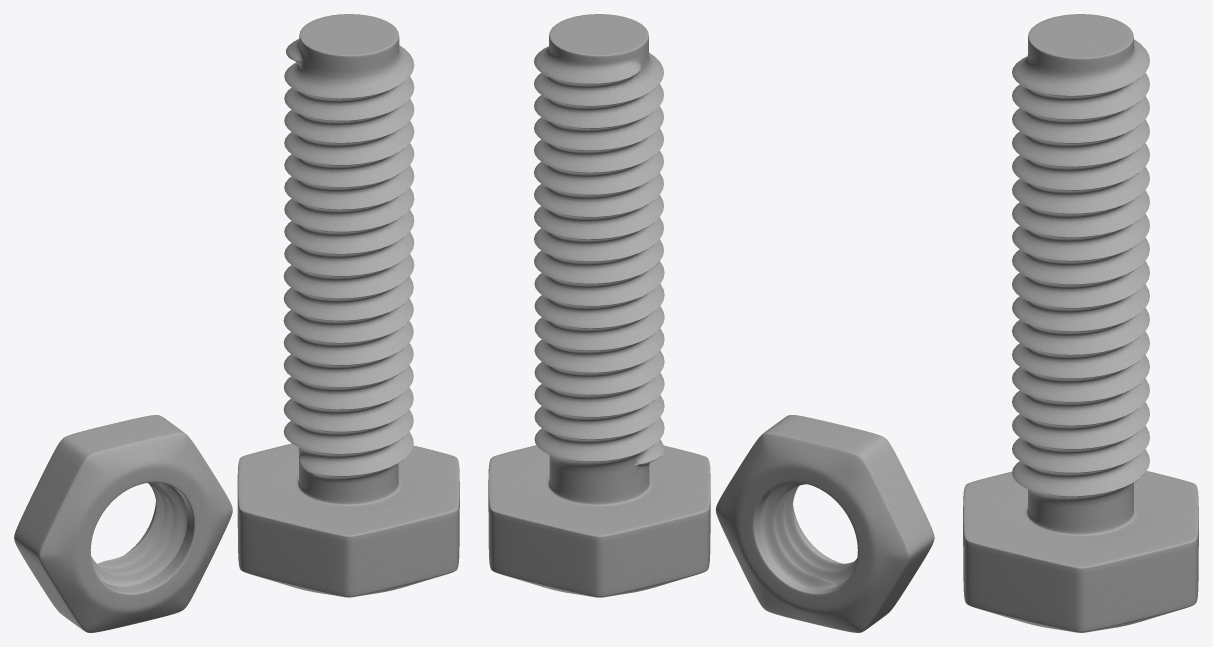
The model's file is Tin Plating12.glb.
The picture shows the model from 3 angles, left to right: view 1: azimuth 30°, elevation 25°; view 2: azimuth 150°, elevation 25°; view 3: azimuth 270°, elevation 25°; orthographic projection. The views are drawn at different scales.
Parts seen in each view (by area): view 1: Hex Screw_nut_; view 2: Hex Screw_nut_; view 3: Hex Screw_nut_.
Part boxes in pixels (x1,y1,x2,y2): Hex Screw_nut_: (14,14,459,632); Hex Screw_nut_: (488,14,934,632); Hex Screw_nut_: (963,14,1198,632).
Size of the model in its own units: 0.0197 by 0.0229 by 0.00879.
1 material, 1 textured.
